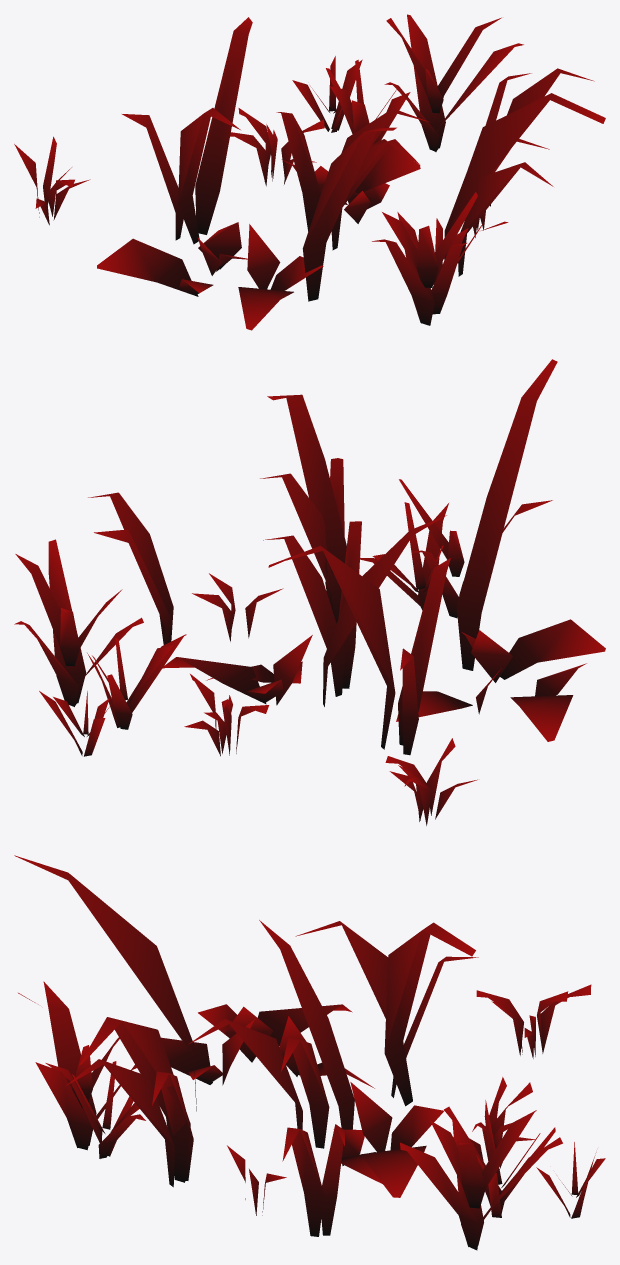
The model's file is grass_LOD2.fbx.
The picture shows the model from 3 angles, top to bottom: view 1: azimuth 30°, elevation 25°; view 2: azimuth 150°, elevation 25°; view 3: azimuth 270°, elevation 25°; orthographic projection. The views are drawn at different scales.
Visible parts, largest first — view 1: Plane.009; view 2: Plane.009; view 3: Plane.009.
Boxes of the visible parts, x1,y1,x2,y2 form: Plane.009: (14, 14, 605, 330); Plane.009: (14, 359, 605, 825); Plane.009: (14, 855, 605, 1250).
Bounding box in the file's own units: 9.83 × 4.75 × 9.67.
